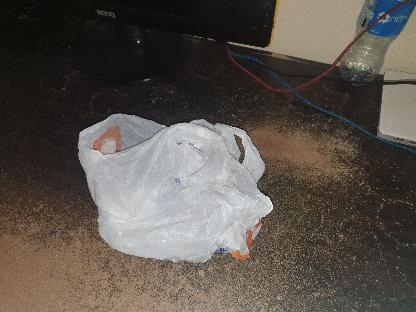Plastic Bag: (73, 105, 276, 268)
Plastic Bottle: (338, 1, 416, 86)
